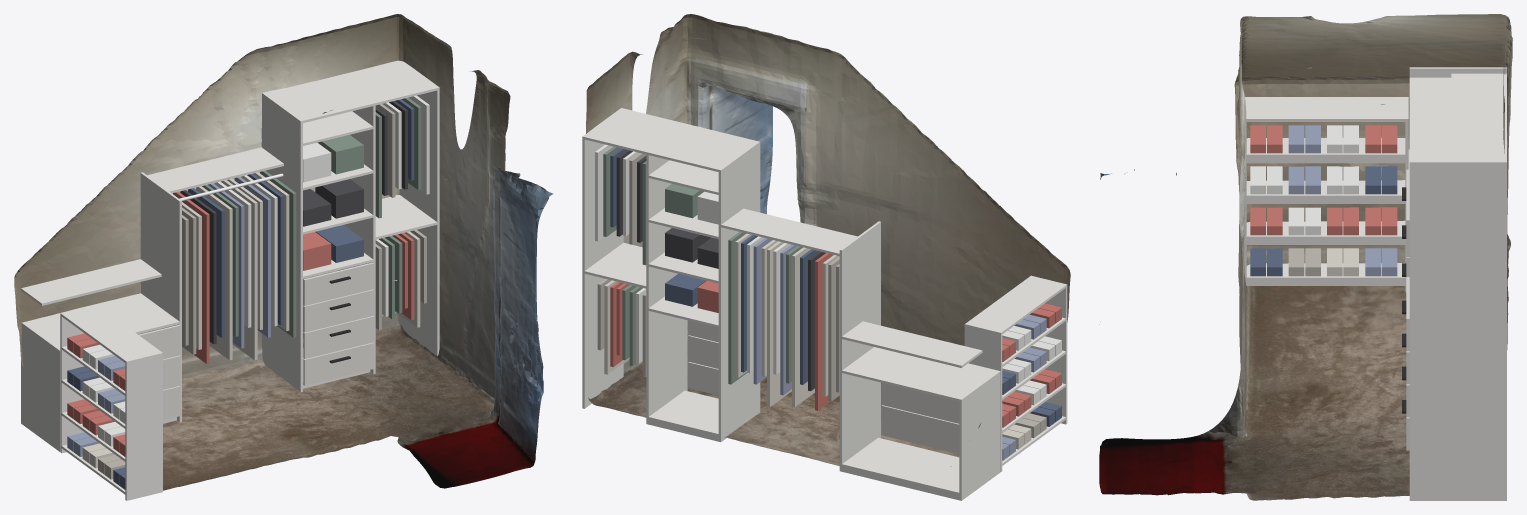
3 views of the same model, side by side, from view 1: azimuth 30°, elevation 25°; view 2: azimuth 150°, elevation 25°; view 3: azimuth 270°, elevation 25° (orthographic). The views are drawn at different scales.
Visible parts, largest first — view 1: Scan_Closet, P2, CD_Top, S_Side_Front, P1, P4, A_Side_L, A_Shelf_Upper, B_Shelf_Top, A_Top, S_Top, P3 (+45 smaller); view 2: Scan_Closet, P1, P2, P3, CD_Top, P4, A_Bottom, A_Top, A_Side_L, B_Shelf_Top, A_Shelf_Upper, S_Top (+45 smaller); view 3: Scan_Closet, P4, CD_Top, S_Top, S_Lip_4, S_Shelf_4, S_Lip_1, S_Lip_2, S_Lip_3, S_Shelf_3, S_Shelf_2, S_Shelf_1 (+33 smaller).
Boxes of the visible parts, x1,y1,x2,y2 form: Scan_Closet: [14, 14, 553, 490]; P2: [261, 92, 302, 391]; CD_Top: [262, 60, 439, 123]; S_Side_Front: [125, 352, 162, 500]; P1: [140, 172, 181, 422]; P4: [400, 61, 439, 356]; A_Side_L: [21, 323, 60, 451]; A_Shelf_Upper: [21, 259, 161, 305]; B_Shelf_Top: [147, 147, 283, 193]; A_Top: [22, 293, 179, 349]; S_Top: [60, 304, 162, 363]; P3: [335, 78, 375, 374]; Scan_Closet: [586, 14, 1070, 466]; P1: [839, 221, 880, 471]; P2: [718, 142, 760, 441]; P3: [646, 123, 687, 424]; CD_Top: [582, 108, 760, 172]; P4: [582, 127, 623, 408]; A_Bottom: [842, 437, 979, 500]; A_Top: [842, 347, 999, 401]; A_Side_L: [959, 370, 1000, 498]; B_Shelf_Top: [721, 208, 857, 255]; A_Shelf_Upper: [842, 321, 982, 367]; S_Top: [965, 276, 1065, 334]; Scan_Closet: [1099, 14, 1512, 500]; P4: [1409, 160, 1506, 500]; CD_Top: [1409, 77, 1506, 165]; S_Top: [1246, 97, 1408, 121]; S_Lip_4: [1246, 153, 1405, 160]; S_Shelf_4: [1246, 138, 1405, 163]; S_Lip_1: [1246, 276, 1405, 282]; S_Lip_2: [1246, 235, 1405, 241]; S_Lip_3: [1246, 194, 1401, 200]; S_Shelf_3: [1246, 180, 1405, 203]; S_Shelf_2: [1246, 220, 1405, 244]; S_Shelf_1: [1246, 263, 1405, 285].
Bounding box in the file's own units: 3.24 × 2.63 × 2.38.
Materials: 13 (1 with a texture image).
